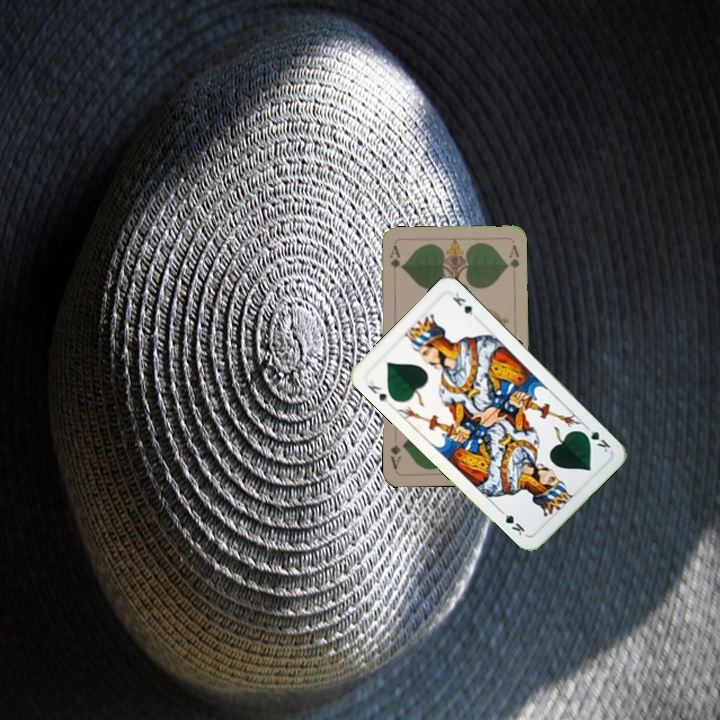GA: (386, 242, 402, 282)
GK: (578, 421, 614, 455), (363, 376, 393, 406)
